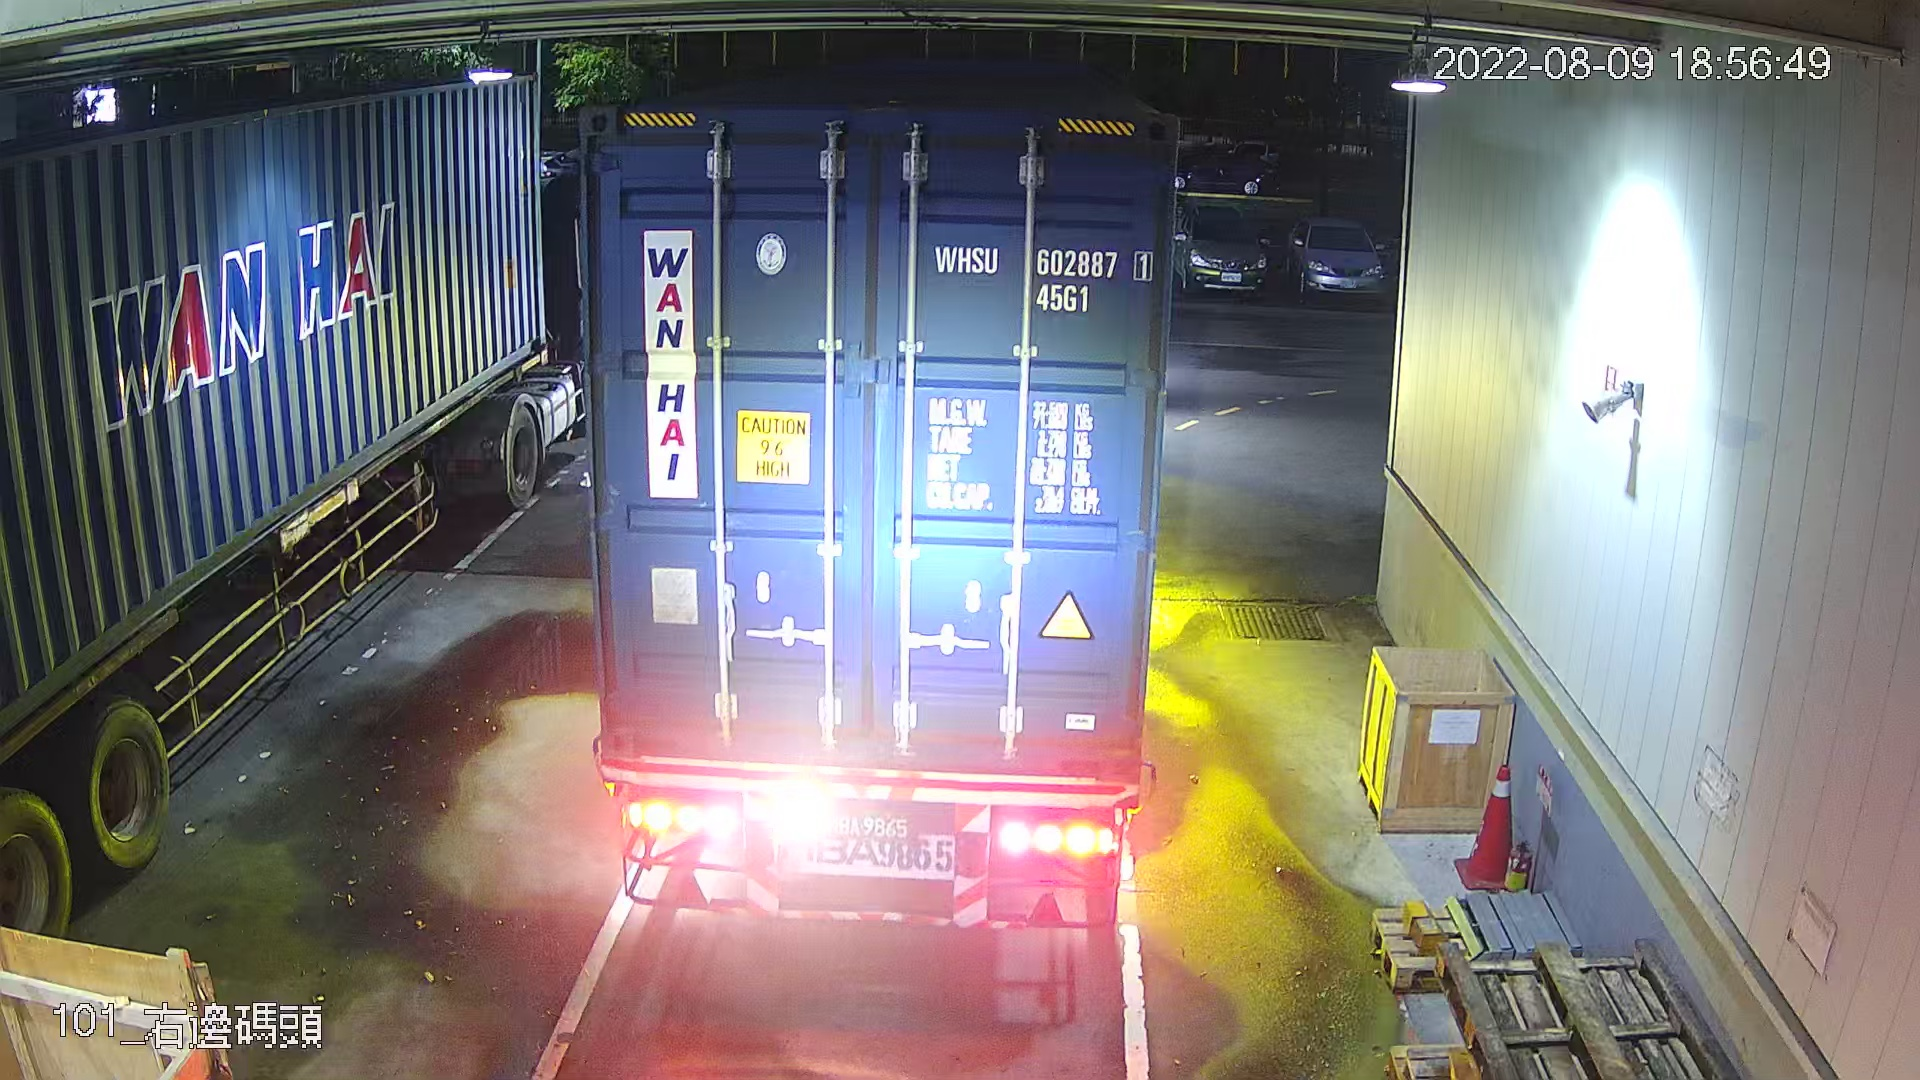container: (928, 233, 1160, 322)
